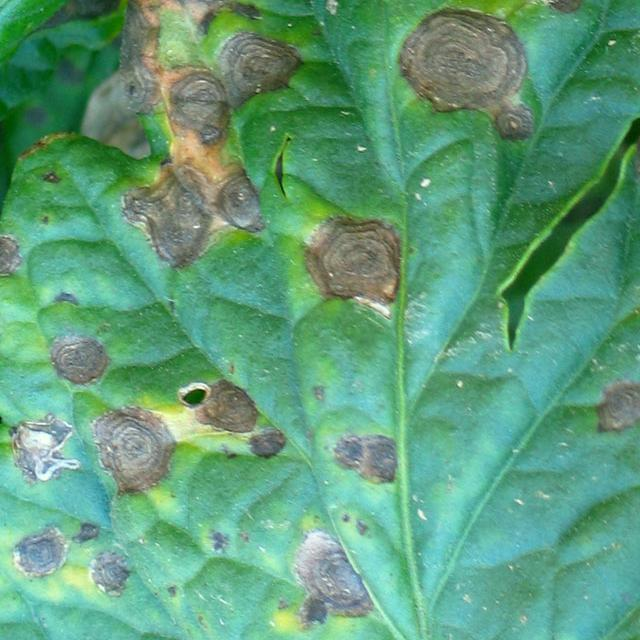Tomato Early blight leaf: (0, 0, 640, 640), (0, 0, 199, 41)
